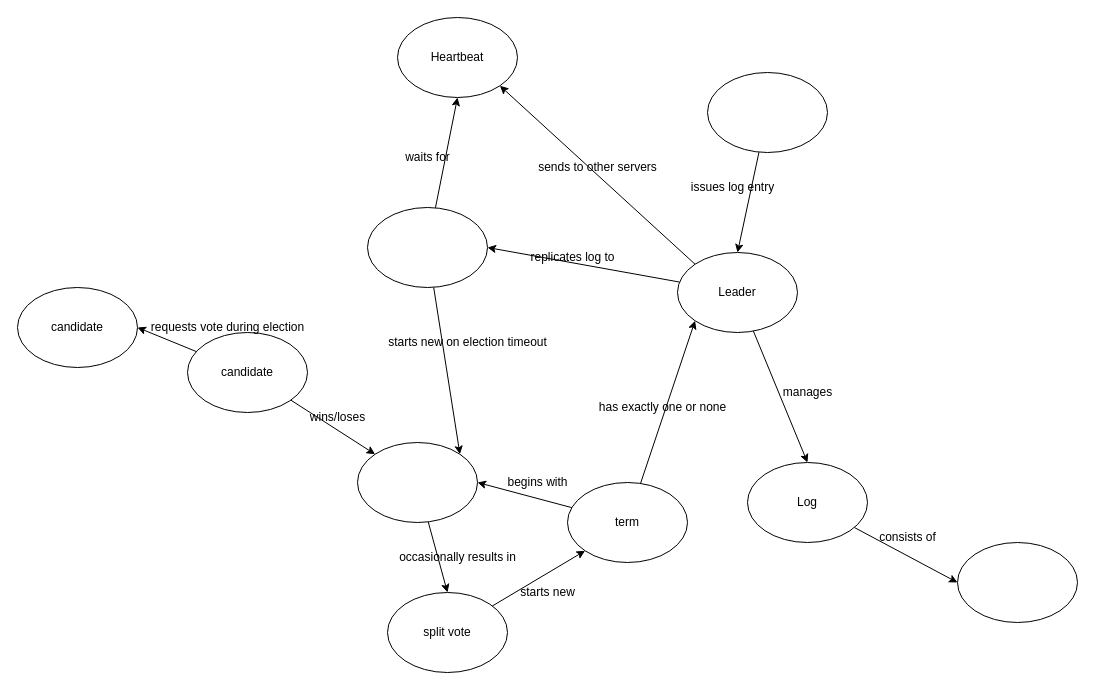
Some shapes in this 1095 by 690 pixel diagram are drawn without their labels. Each missing label, with the centre of its shape:
"client" belongs at (x=767, y=112).
"election" belongs at (x=417, y=482).
"followers" belongs at (x=427, y=247).
"LogEntry" belongs at (x=1017, y=582).
